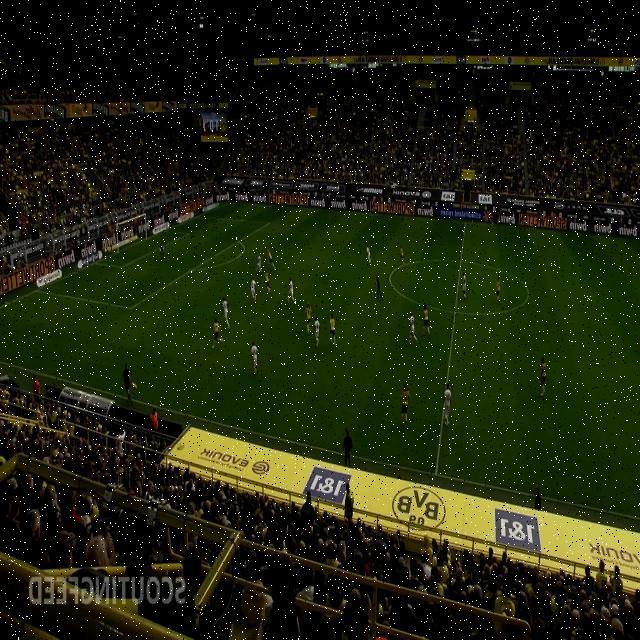Corner: (219, 185, 232, 207)
GoalKeeper: (160, 239, 164, 259)
Referee: (122, 363, 138, 404), (375, 274, 383, 302), (496, 207, 502, 226)
TEAM 1: (400, 382, 410, 427), (212, 317, 224, 349), (539, 356, 547, 396), (422, 304, 431, 338), (305, 301, 312, 335), (266, 248, 276, 270), (263, 270, 272, 294), (496, 275, 501, 305), (462, 272, 466, 300), (400, 244, 404, 265)
TEAM 2: (442, 382, 452, 426), (408, 311, 418, 344), (251, 340, 259, 376), (222, 296, 230, 329), (250, 277, 260, 303), (329, 313, 336, 347), (287, 277, 295, 305), (255, 252, 263, 275), (314, 316, 320, 346), (366, 246, 372, 266)
